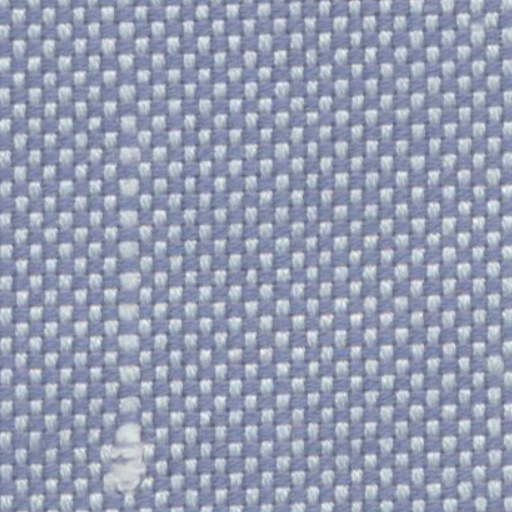DaiSha: (101, 22, 164, 495)
